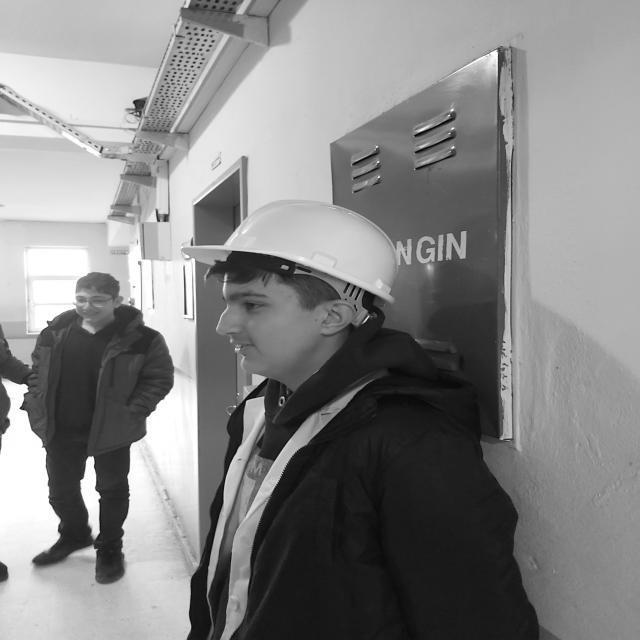safety_helmet: (182, 200, 400, 308)
